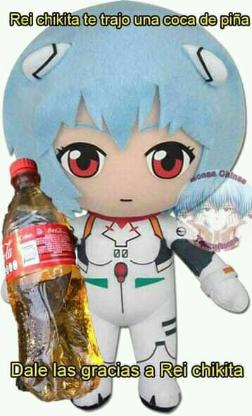rei-plush: (0, 0, 250, 416)
